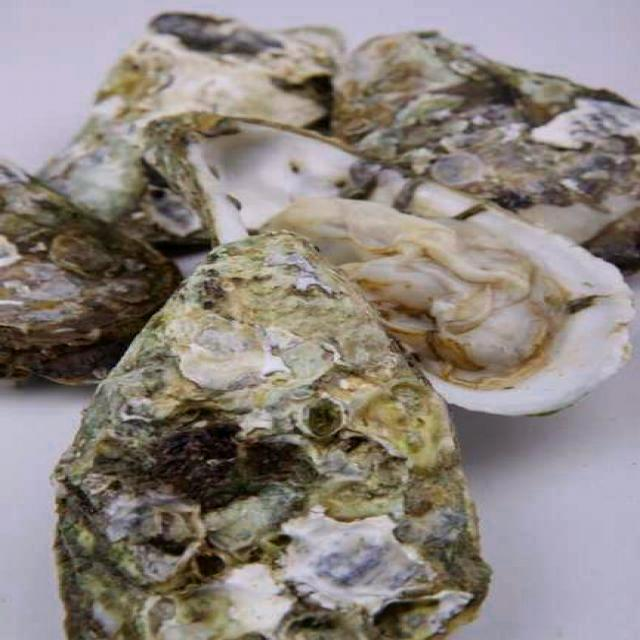Oyster-Closed: (53, 230, 491, 640), (38, 9, 342, 263), (332, 27, 640, 269), (0, 155, 184, 389)
Oyster-Open: (140, 111, 634, 419)
